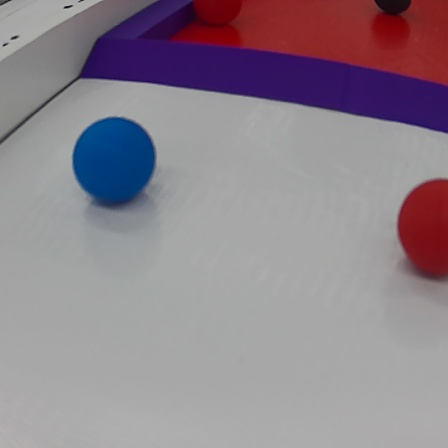black: (370, 0, 416, 17)
blue: (67, 116, 161, 207)
red: (393, 166, 448, 285), (191, 0, 245, 27)
red_aim: (81, 0, 448, 142)
